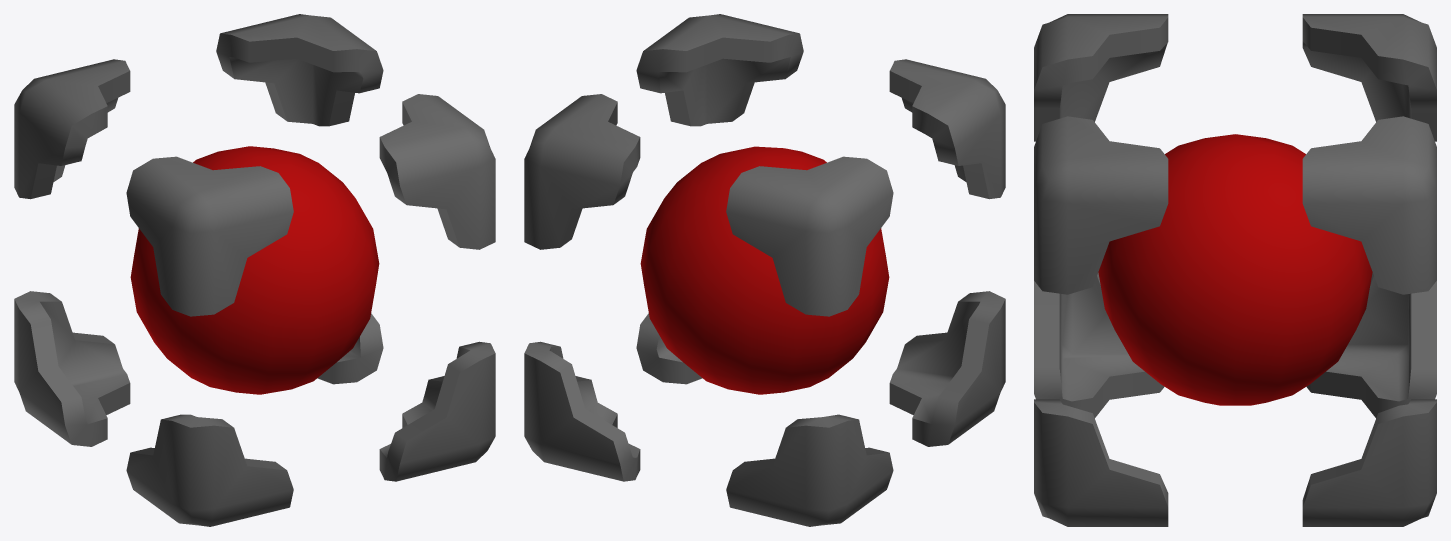
File: cc0-pickup-sphere-lod1.glb
The picture shows the model from 3 angles, left to right: view 1: azimuth 30°, elevation 25°; view 2: azimuth 150°, elevation 25°; view 3: azimuth 270°, elevation 25°; orthographic projection. The views are drawn at different scales.
Visible parts, largest first — view 1: part_0; view 2: part_0; view 3: part_0.
Boxes of the visible parts, box(x1,y1,x2,y2) form: part_0: box(14, 14, 495, 526); part_0: box(524, 14, 1005, 526); part_0: box(1034, 14, 1436, 526).
Size of the model in its own units: 0.8856 by 0.8856 by 0.8856.
1 material, 1 textured.
